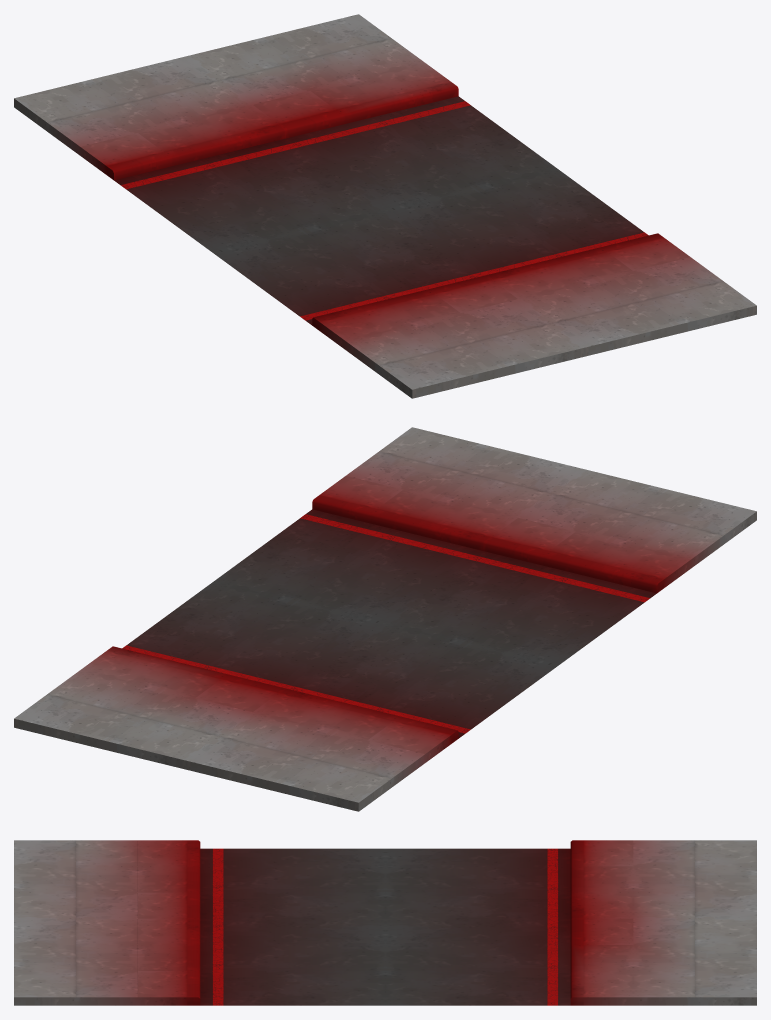
The model's file is street_2lane.glb.
3 renders of one model, top to bottom at view 1: azimuth 30°, elevation 25°; view 2: azimuth 150°, elevation 25°; view 3: azimuth 270°, elevation 25°, orthographic. The views are drawn at different scales.
Visible parts, largest first — view 1: Street_2Lane; view 2: Street_2Lane; view 3: Street_2Lane.
Part boxes in pixels (x1,y1,x2,y2): Street_2Lane: (14, 14, 756, 398); Street_2Lane: (14, 427, 756, 811); Street_2Lane: (14, 840, 756, 1005).
Bounding box in the file's own units: 6 × 0.15 × 12.
3 materials, 3 textured.
